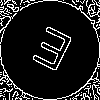E: (25, 25, 75, 81)
